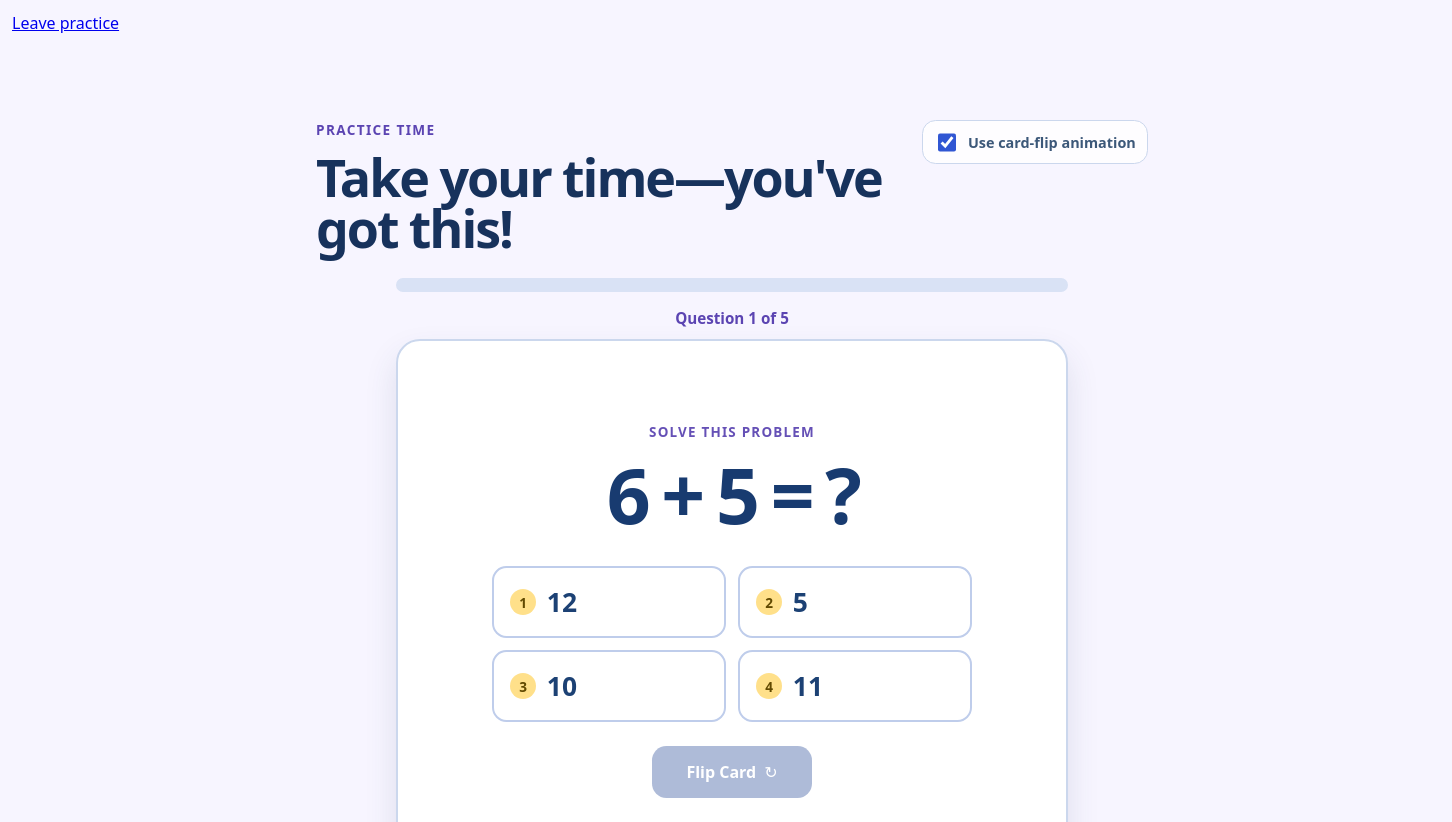
Test case: PracticeSessionPage › stores an incorrect self-reported answer as a mistake pattern
Click the button named "answer choice 1:". click: (609, 602)
box: [492,566,726,638]
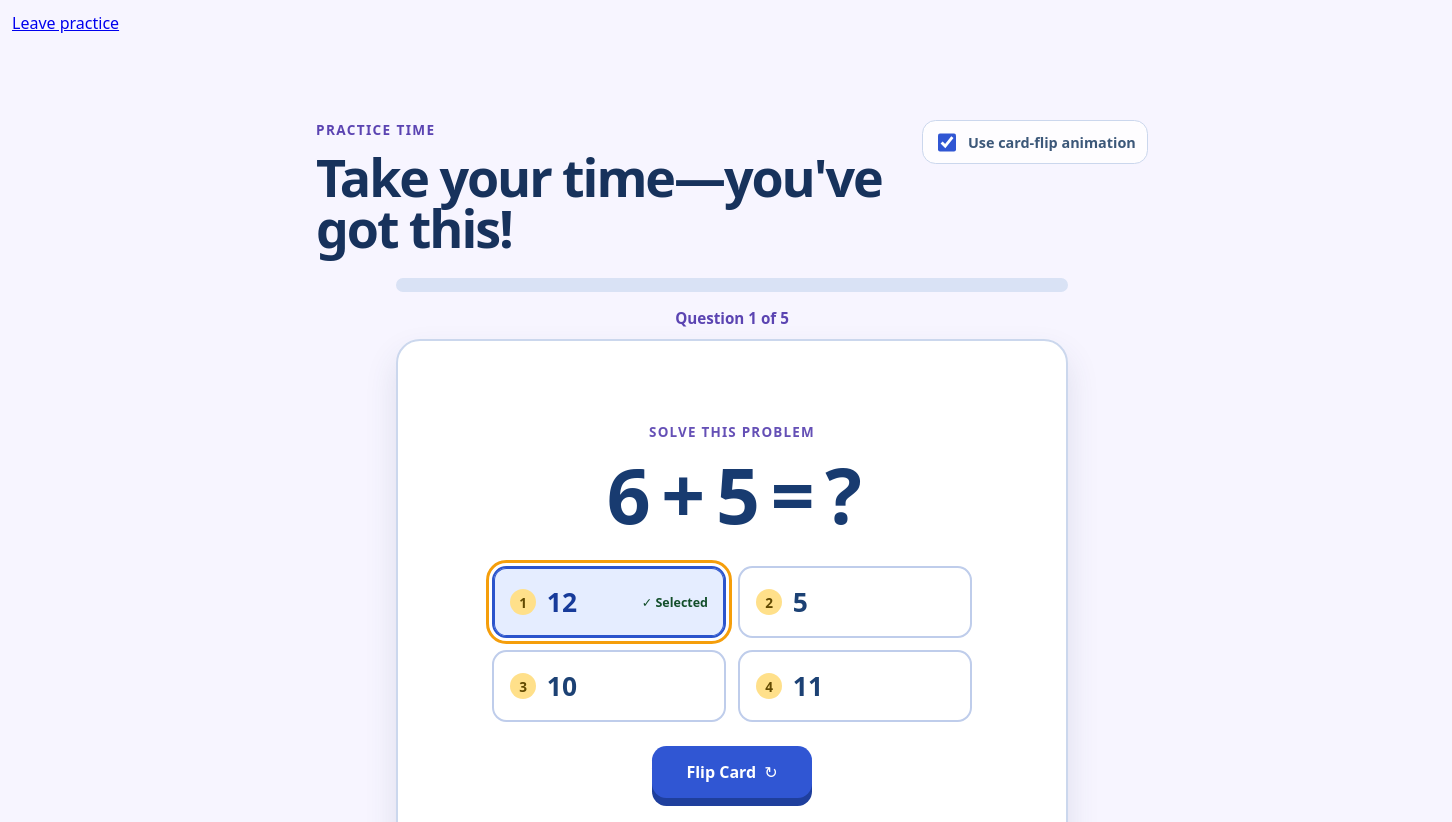
Click the button "Flip Card ↻". click: (732, 772)
box: [652,746,812,798]
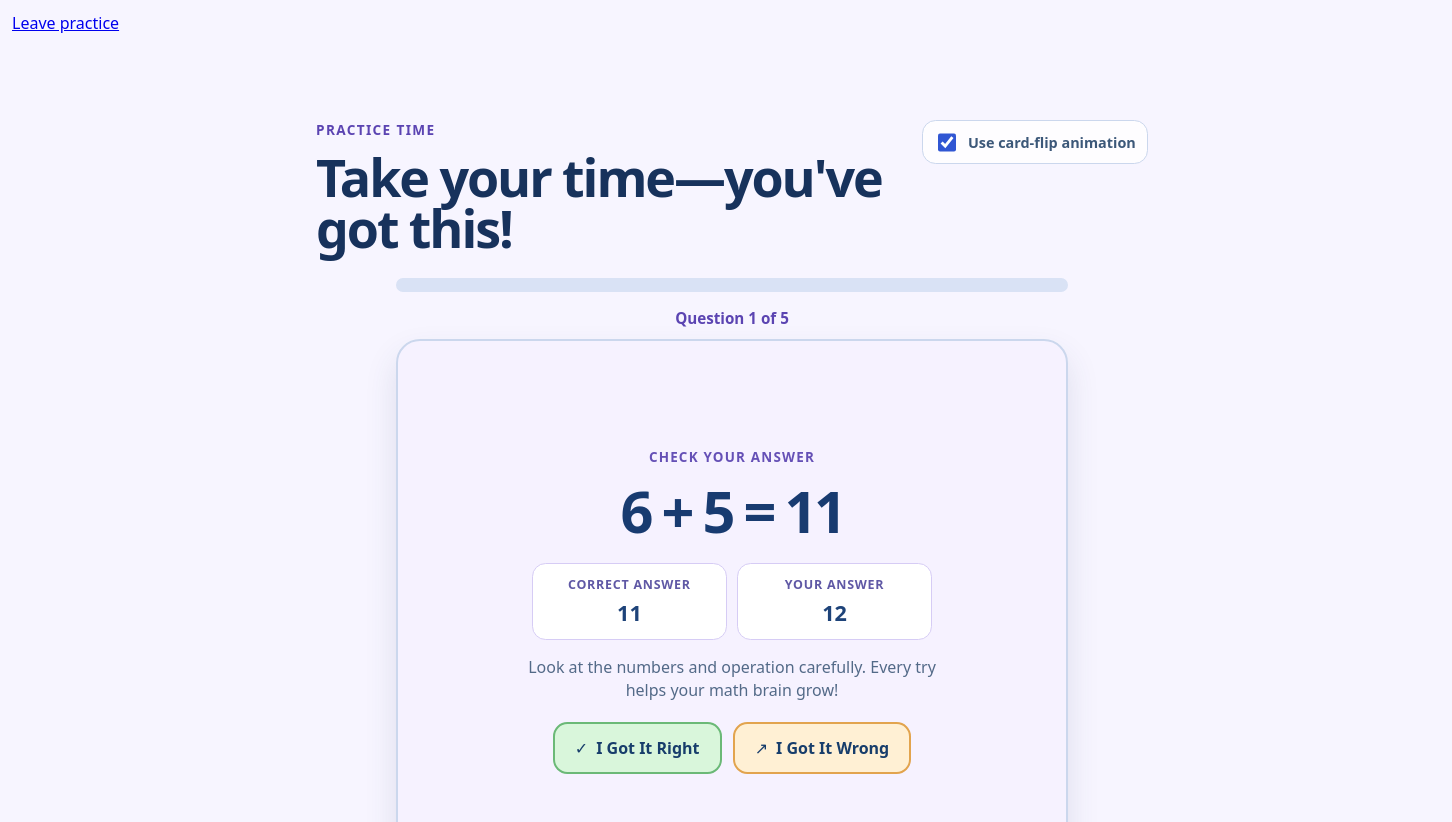
Click the button "↗ I Got It Wrong". click: (822, 748)
box: [733,722,911,774]
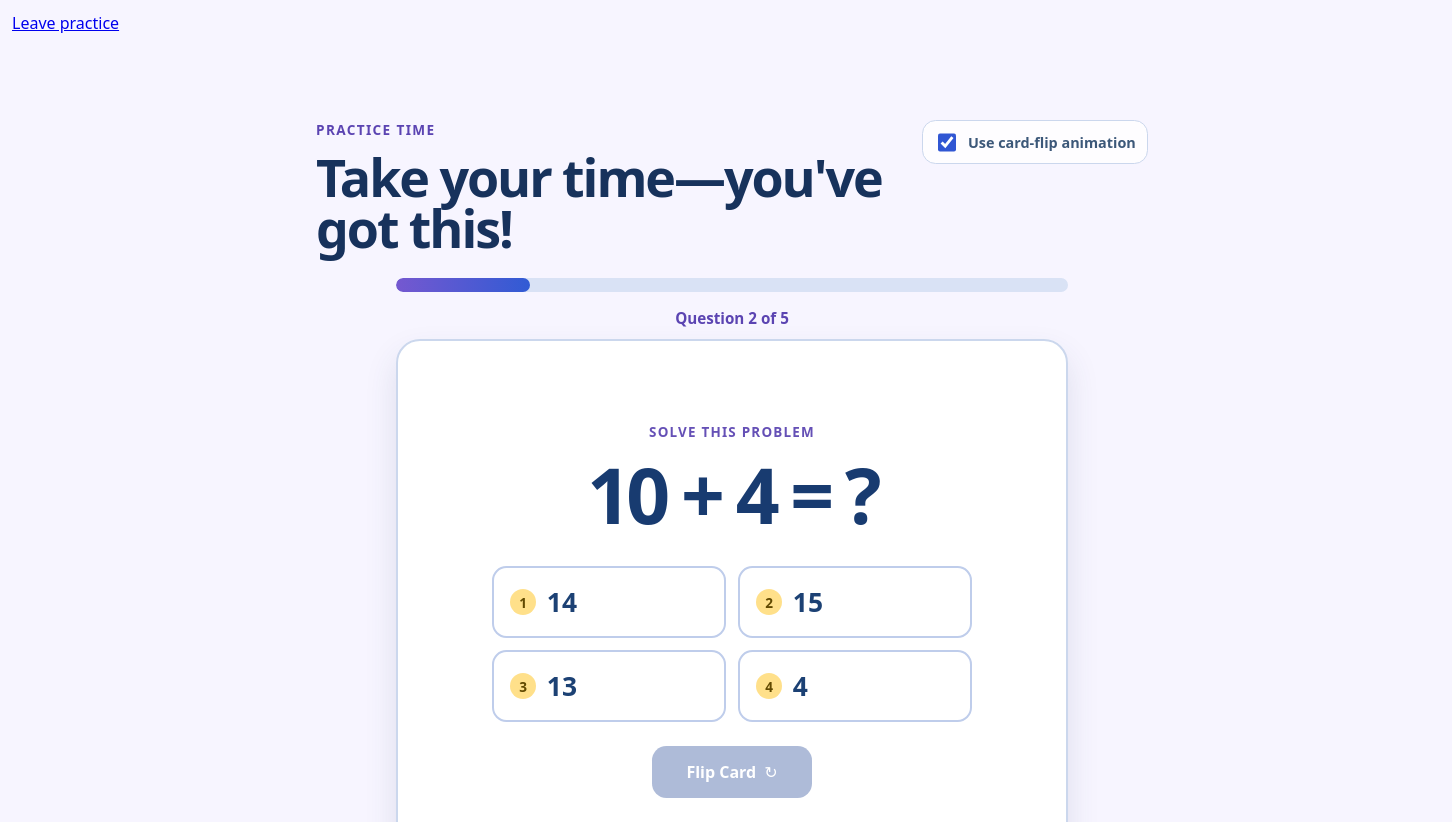
Expected: the text "Question 2 of 5" is shown, [675,308,789,328]
